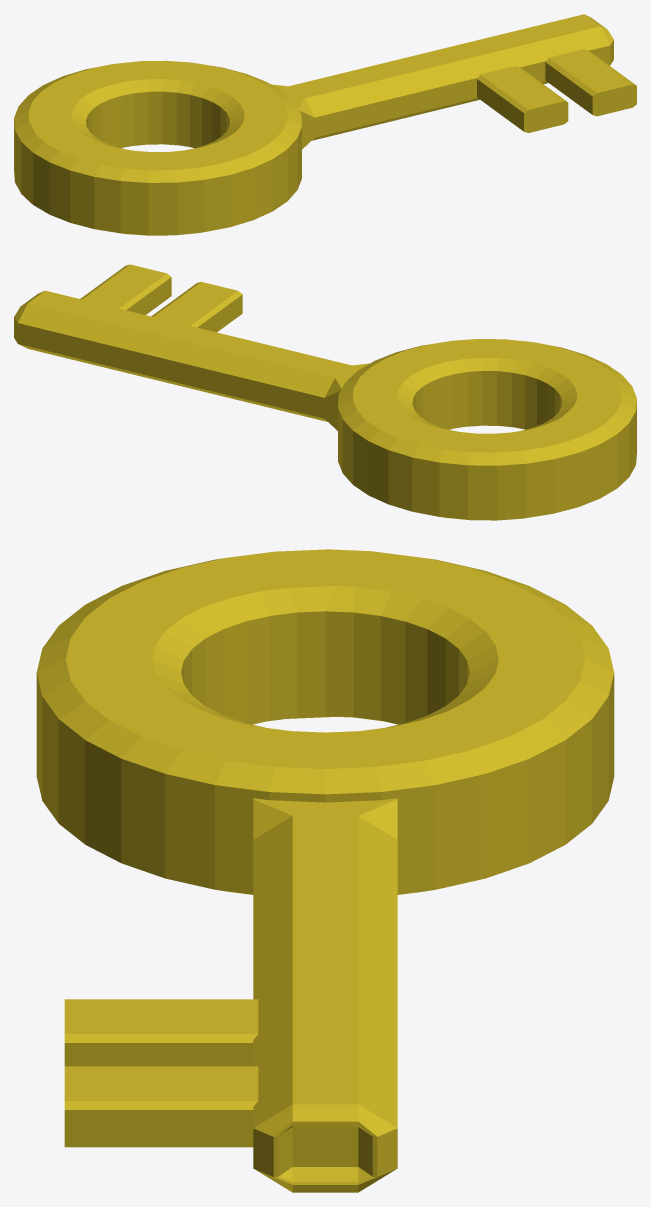
The model's file is key2.fbx.
3 views of the same model, one above another, from view 1: azimuth 30°, elevation 25°; view 2: azimuth 150°, elevation 25°; view 3: azimuth 270°, elevation 25° (orthographic). The views are drawn at different scales.
Parts seen in each view (by area): view 1: Cube.001; view 2: Cube.001; view 3: Cube.001.
Boxes of the visible parts, box(x1,y1,x2,y2) form: Cube.001: box(14, 14, 636, 235); Cube.001: box(14, 264, 636, 520); Cube.001: box(36, 549, 614, 1192).
Bounding box in the file's own units: 909 × 100 × 400.
